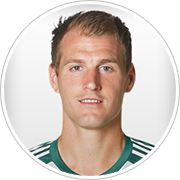face: (47, 40, 138, 121)
